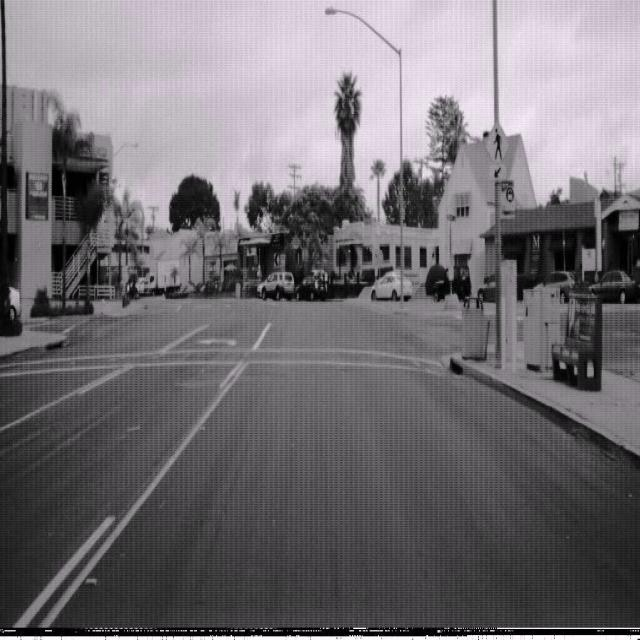pedestrianCrossing: (482, 116, 510, 170)
